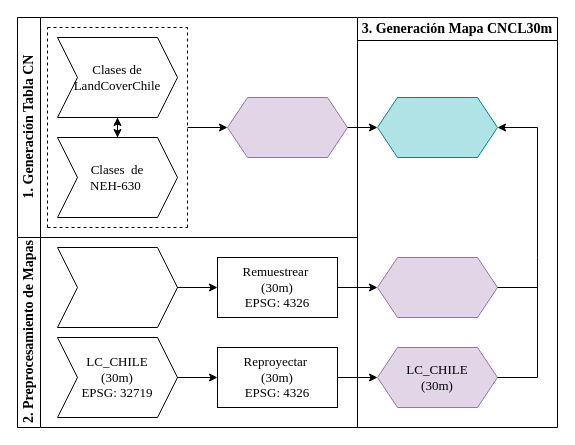
Some shapes in this 575 by 445 pixel diagram are drawn without their labels. The shapes that lost their labels are listed below. From the top down, each one's box as (x1, y1, x2, y2) in pixels, then its label:
(226, 96, 348, 158): Tabla CN
(376, 96, 498, 158): Producto grillado CNCL (30m)
(56, 246, 178, 328): HYSOGs (250m) EPSG: 4326
(376, 256, 498, 318): HYSOGs (30m)
